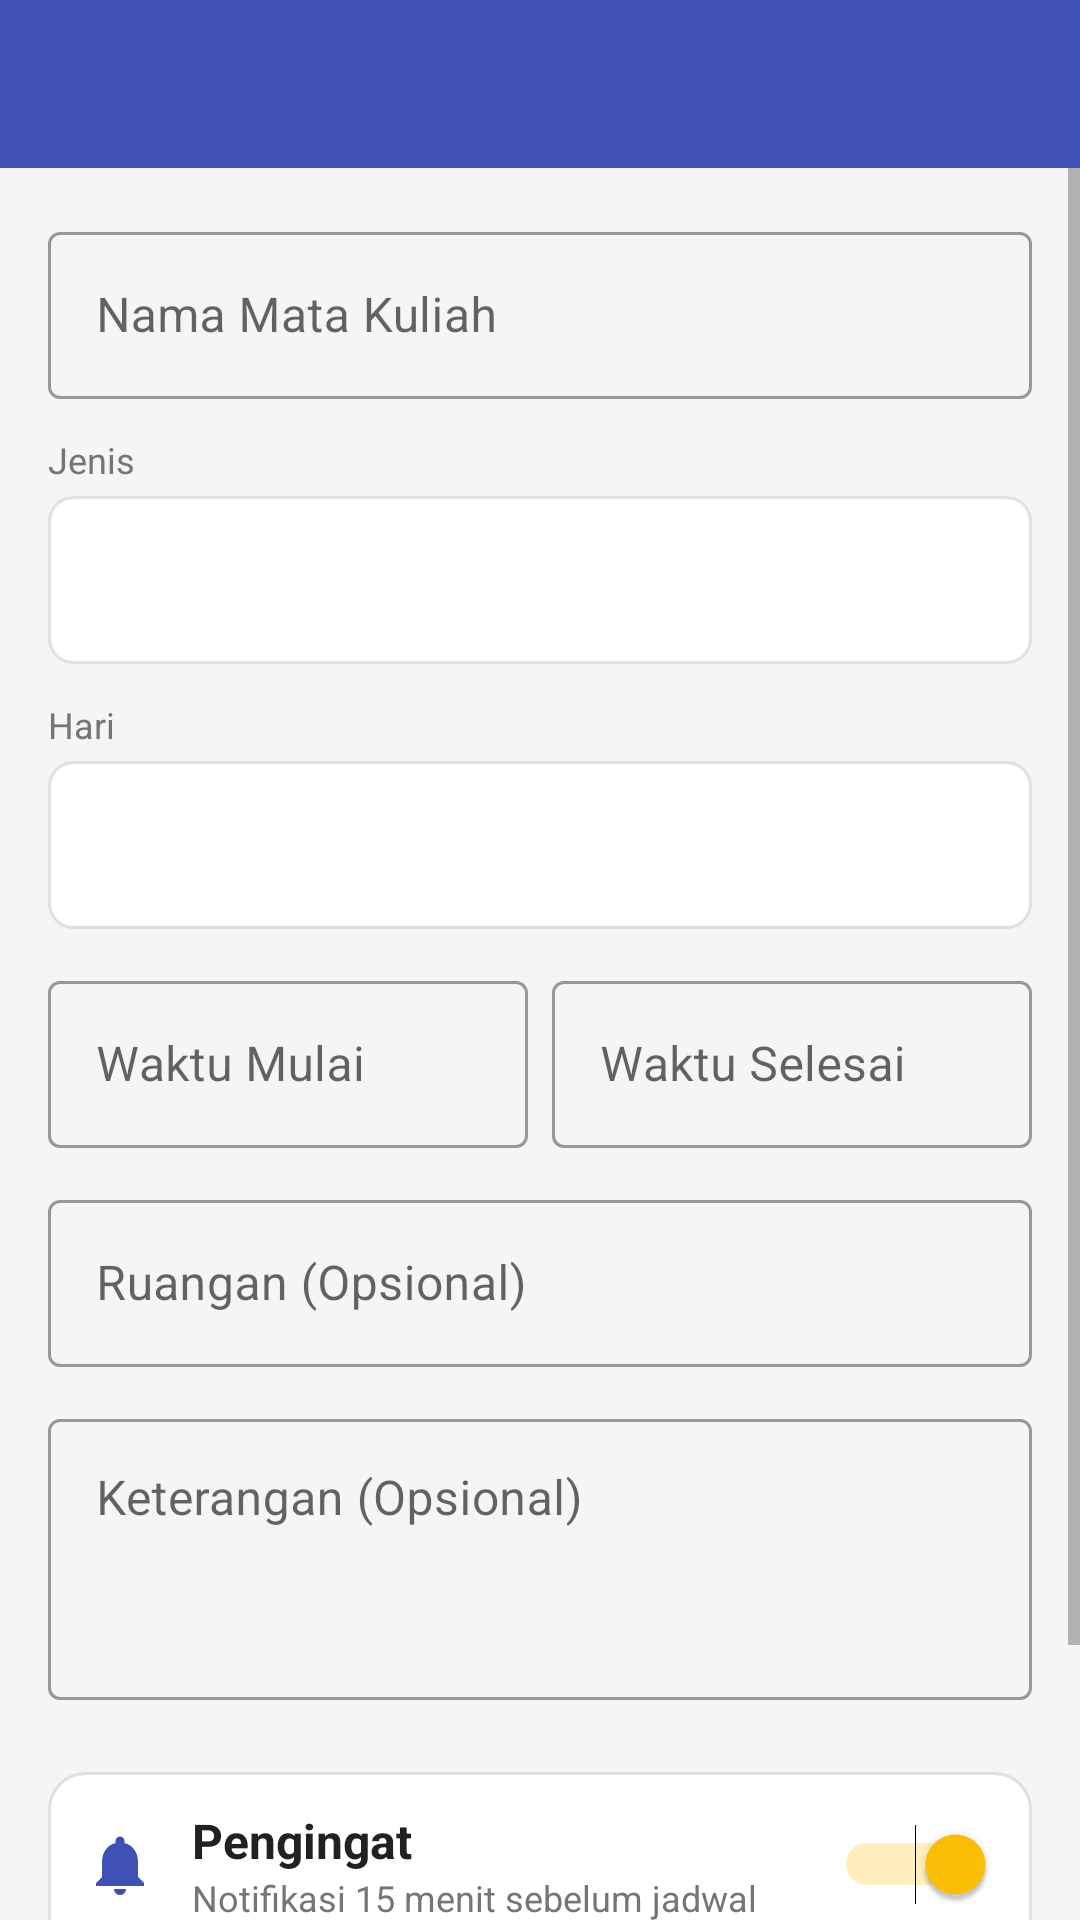

Icon bounding boxes for this 1080 × 1920 phone screenshot, format bbox=[x1, y1, x2, y2]:
notification: bbox=[96, 1836, 144, 1895]
